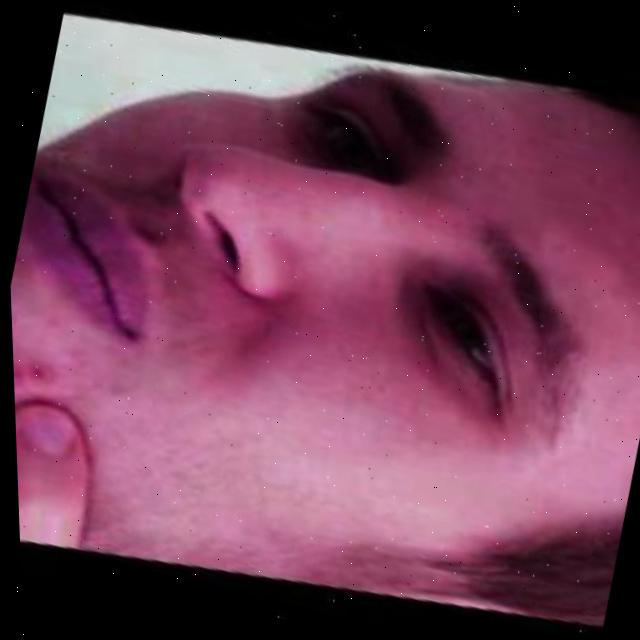Acne: (24, 357, 54, 394)
